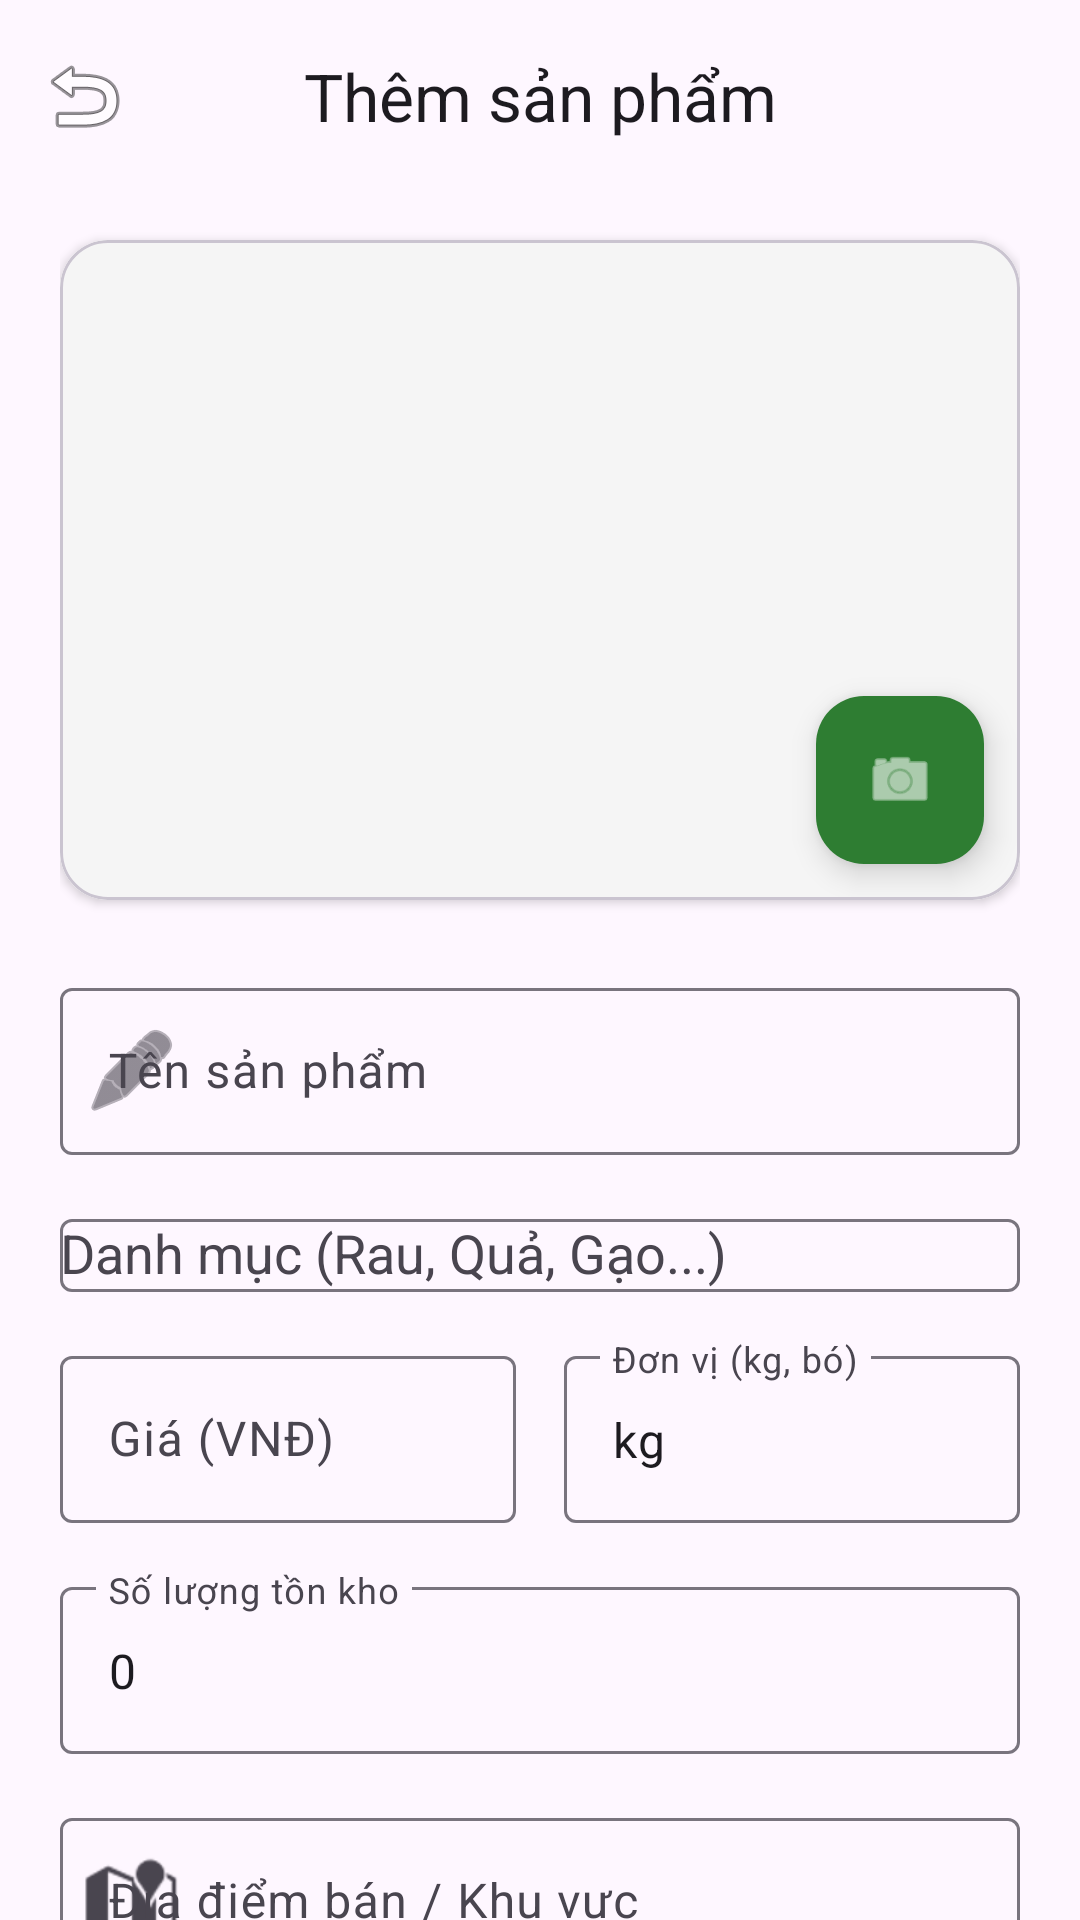

Screen size 1080 × 1920. Icon name, then its box in pixels as (x1, y1, x2, y2):
Chọn ảnh: (816, 696, 984, 864)
